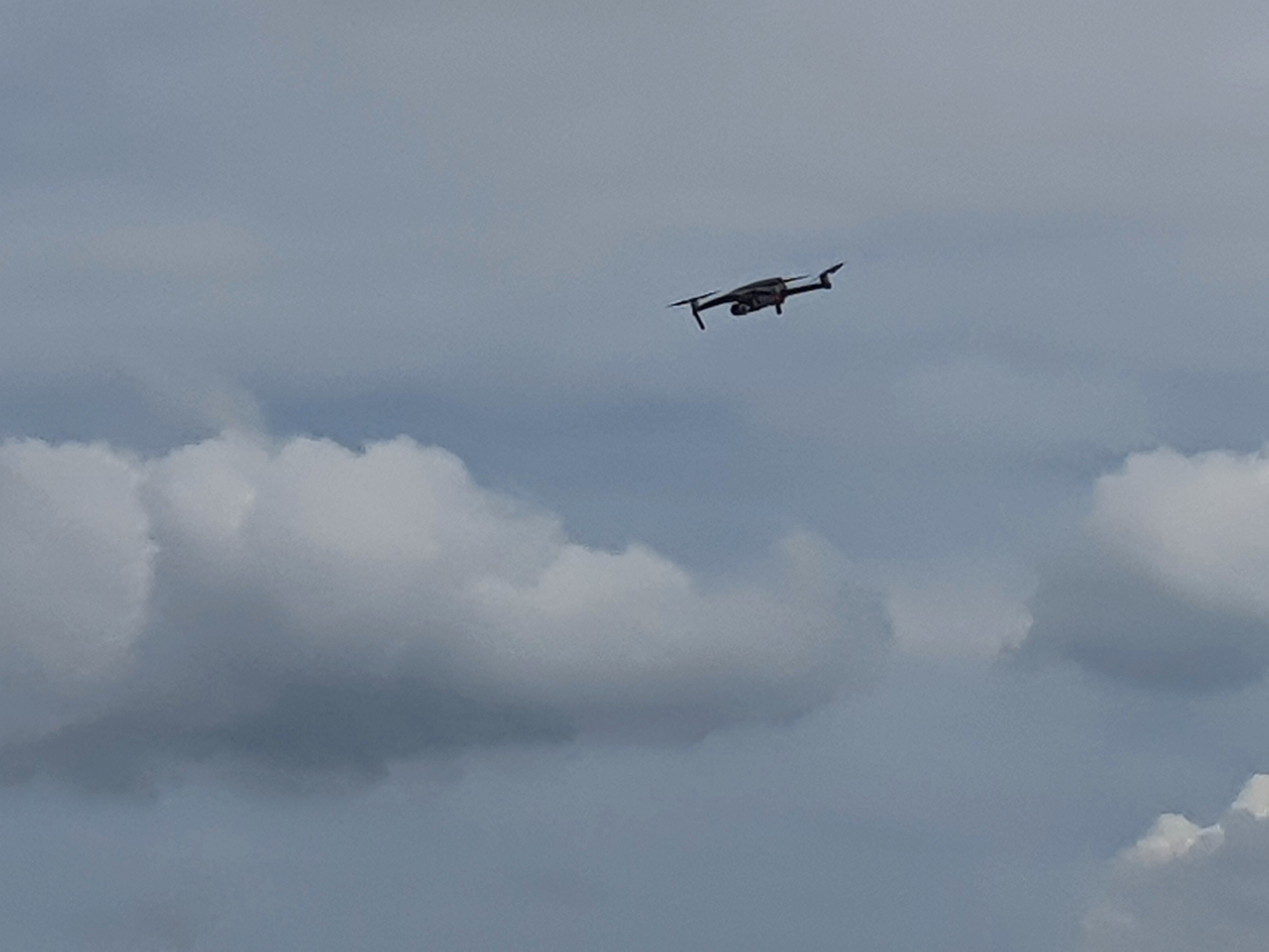drone_other: (663, 258, 853, 332)
